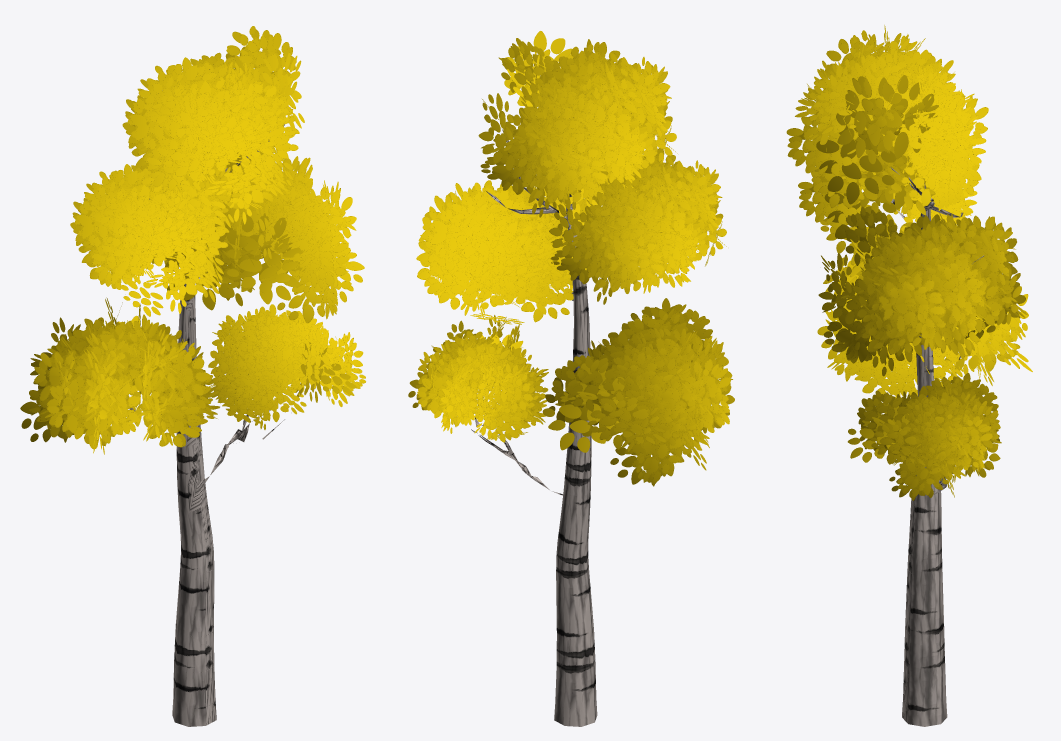
The model's file is tree-birch.glb.
The picture shows the model from 3 angles, left to right: view 1: azimuth 30°, elevation 25°; view 2: azimuth 150°, elevation 25°; view 3: azimuth 270°, elevation 25°; orthographic projection. The views are drawn at different scales.
Parts seen in each view (by area): view 1: BirchTree_1; view 2: BirchTree_1; view 3: BirchTree_1.
Part boxes in pixels (x1,y1,x2,y2): BirchTree_1: (20, 26, 365, 726); BirchTree_1: (408, 31, 734, 726); BirchTree_1: (786, 25, 1032, 726).
Bounding box in the file's own units: 2.71 × 5.45 × 1.94.
Materials: 2 (2 with a texture image).
